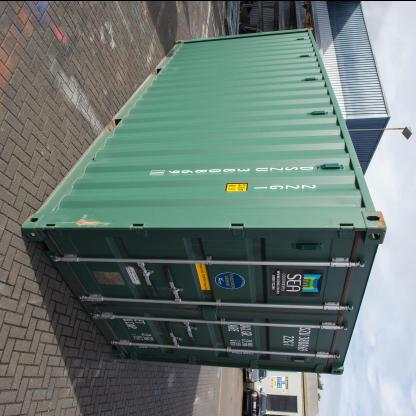Damage: (92, 296, 216, 320), (52, 206, 115, 232), (188, 235, 210, 260), (367, 206, 387, 230)
